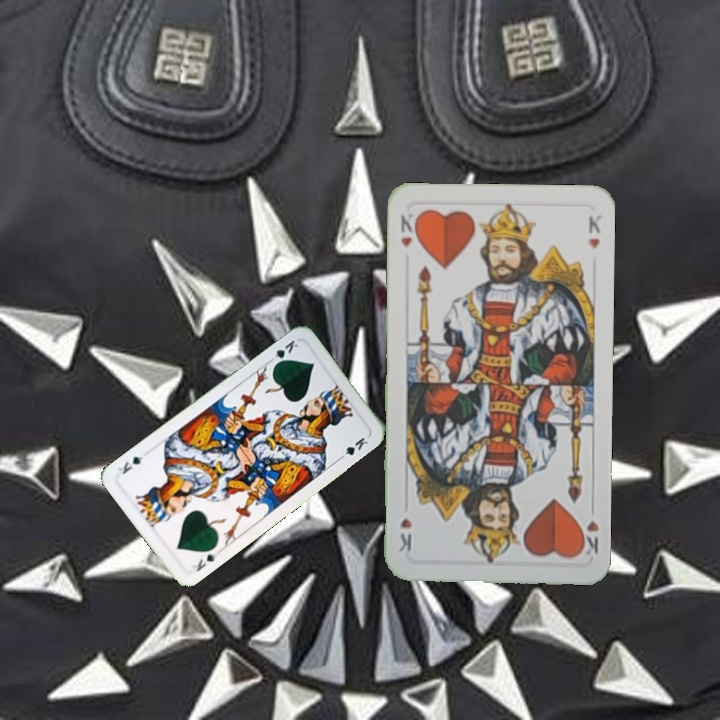GK: (268, 336, 301, 369), (189, 549, 220, 574)
HK: (575, 500, 602, 559), (397, 209, 421, 250)
